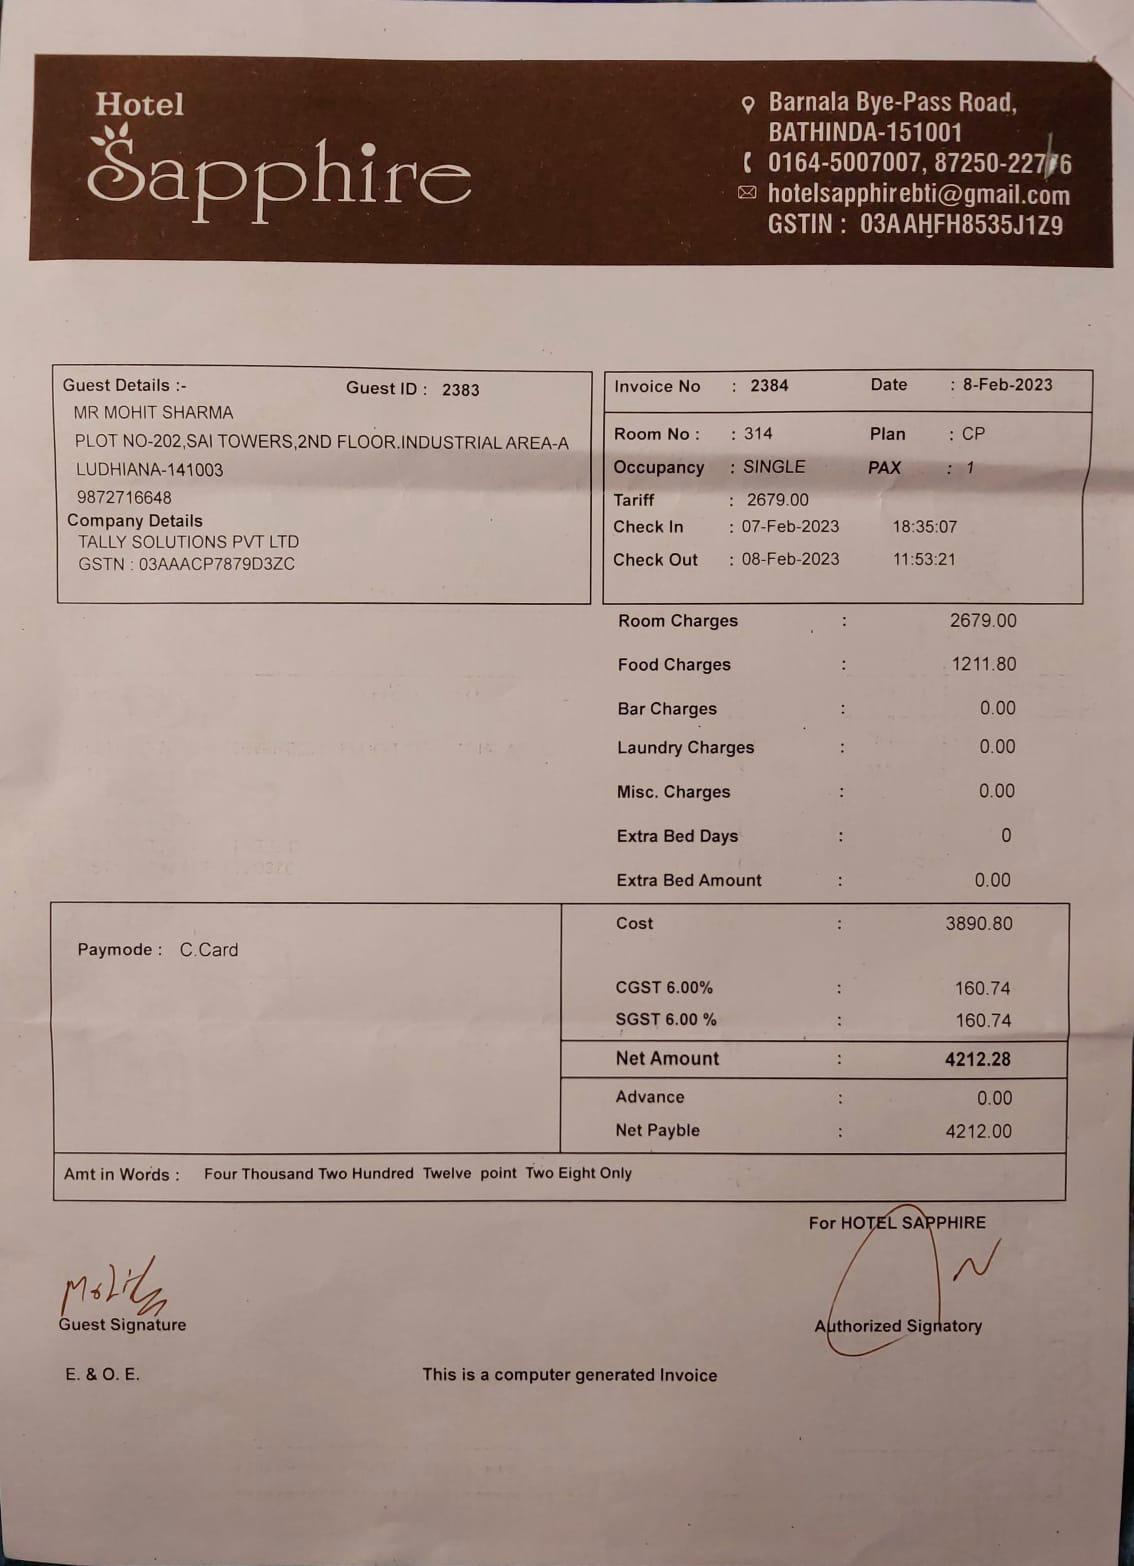InvoiceDate: (950, 372, 1068, 402)
InvoiceNumber: (749, 372, 800, 401)
TotalAmount: (937, 1046, 1021, 1078)
